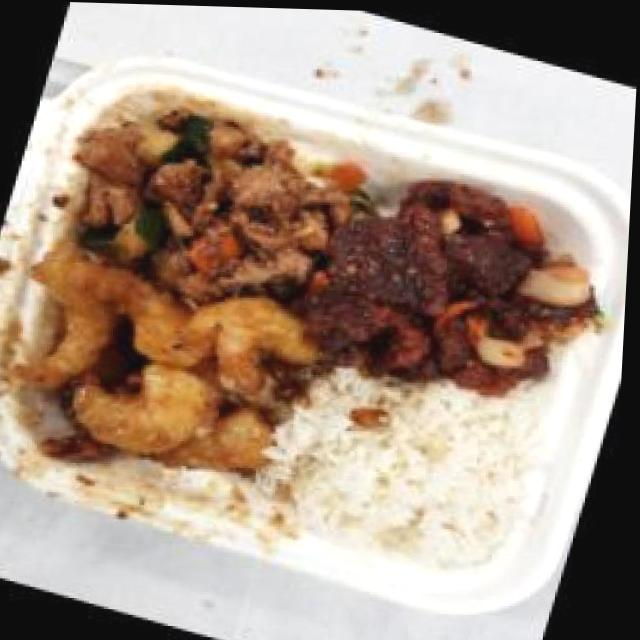Beijing Beef: (293, 145, 629, 426)
Honey Walnut Shrimp: (0, 218, 336, 511)
Kung Pao Chicken: (42, 66, 375, 334)
White Steamed Rice: (272, 352, 559, 586)
